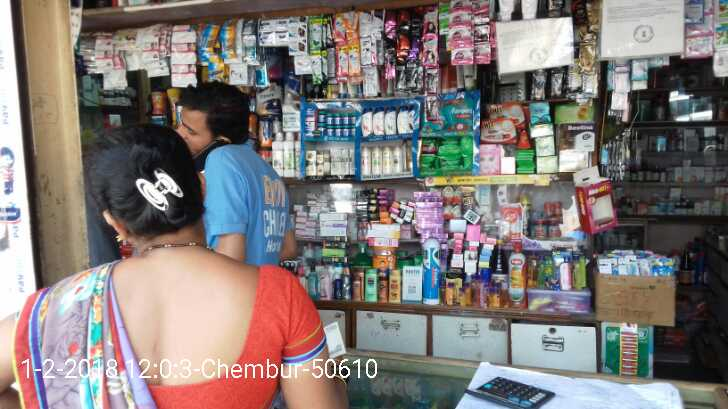vicks: (301, 103, 356, 139), (423, 237, 440, 305)
